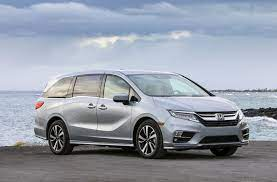Honda: (36, 69, 251, 159)
